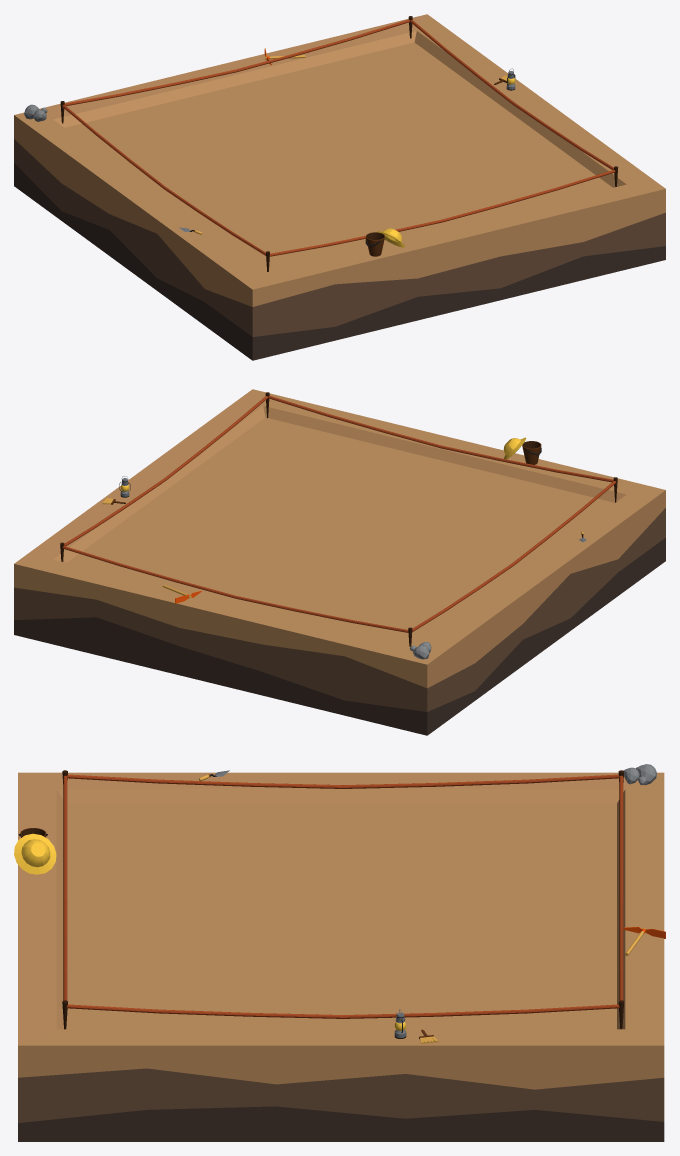
Rendered from excavation_site.fbx.
The picture shows the model from 3 angles, top to bottom: view 1: azimuth 30°, elevation 25°; view 2: azimuth 150°, elevation 25°; view 3: azimuth 270°, elevation 25°; orthographic projection. The views are drawn at different scales.
Parts seen in each view (by area): view 1: Yer.001, ip.004, ip.005, ip.007, ip.006; view 2: Yer.001, ip.004, ip.005, ip.007, ip.006; view 3: Yer.001, ip.007, ip.006, baret.001, ip.004, ip.005.
Boxes of the visible parts, x1,y1,x2,y2 form: Yer.001: (14,14,665,360); ip.004: (64,19,409,105); ip.005: (269,170,615,256); ip.007: (62,105,265,255); ip.006: (410,20,613,169); Yer.001: (14,389,665,735); ip.004: (63,546,408,632); ip.005: (268,395,613,482); ip.007: (412,481,616,631); ip.006: (64,396,268,546); Yer.001: (18,772,664,1141); ip.007: (67,774,619,788); ip.006: (66,1004,619,1018); baret.001: (14,833,56,874); ip.004: (619,775,623,1000); ip.005: (63,775,67,1000).
Size of the model in its own units: 17.97 by 3.82 by 18.13.
